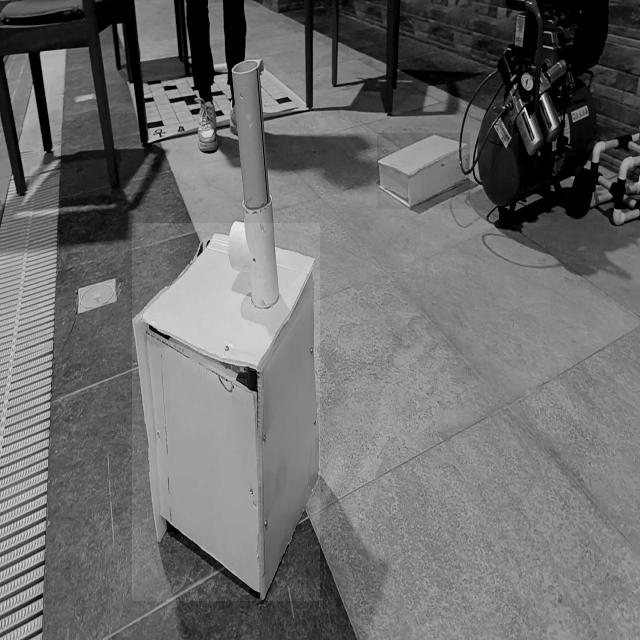Cube: (132, 223, 320, 601)
Cuboid: (377, 133, 470, 210)
